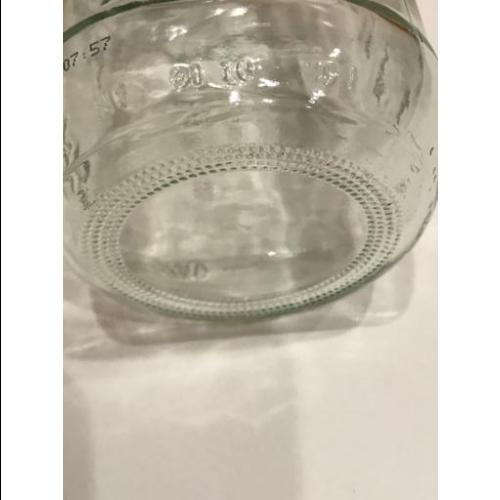glass: (63, 0, 440, 314)
